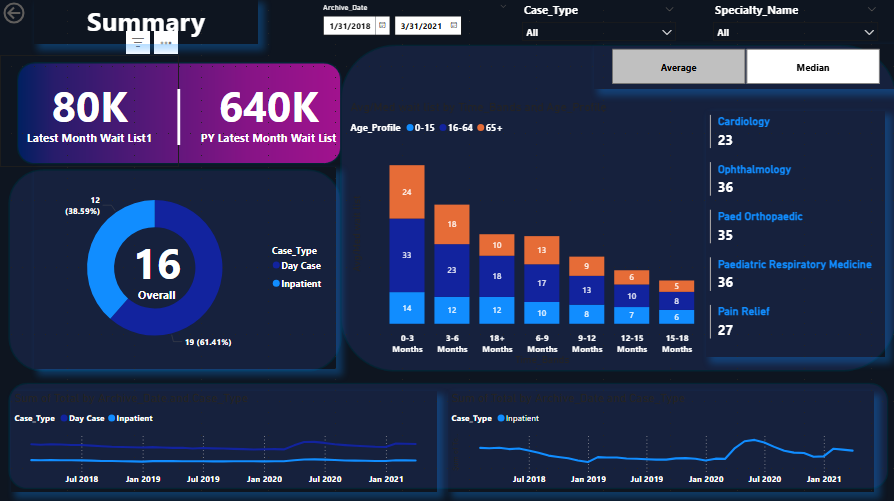

The page's visual inventory and layout, read from the dashboard file:
{"tool":"powerbi","page":{"name":"Summary","canvas":[1280,720],"ordinal":0},"visuals":[{"type":"card","fields":{"Values":["All- Data.Latest Month Wait List1"]},"box":[0,80,256,160],"z":0},{"type":"card","fields":{"Values":["All- Data.PY Latest Month wait list"]},"box":[256,80,256,160],"z":1000},{"type":"slicer","fields":{"Values":["Calculation Method.Calc Method"]},"box":[848,64,432,64],"z":2000},{"type":"donutChart","fields":{"Category":["All- Data.Case_Type"],"Y":["All- Data.Avg/Med wait list"]},"box":[48,240,432,288],"z":3000},{"type":"actionButton","box":[0,0,100,40],"z":4000},{"type":"columnChart","fields":{"Y":["All- Data.Avg/Med wait list"],"Category":["All- Data.Time_Bands"],"Series":["All- Data.Age_Profile"]},"box":[496,144,528,384],"z":5000},{"type":"multiRowCard","fields":{"Values":["All- Data.Specialty_Name","All- Data.Avg/Med wait list"]},"box":[1008,160,256,352],"z":6000},{"type":"lineChart","fields":{"Category":["All- Data.Archive_Date"],"Y":["Sum(All- Data.Total)"],"Series":["All- Data.Case_Type"]},"box":[16,560,608,144],"z":7000},{"type":"lineChart","fields":{"Category":["All- Data.Archive_Date"],"Y":["Sum(All- Data.Total)"],"Series":["All- Data.Case_Type"]},"box":[640,560,608,144],"z":8000},{"type":"slicer","fields":{"Values":["All- Data.Archive_Date"]},"box":[448,0,288,80],"z":9000},{"type":"slicer","fields":{"Values":["All- Data.Case_Type"]},"box":[736,0,240,64],"z":10000},{"type":"slicer","fields":{"Values":["All- Data.Specialty_Name"]},"box":[1008,0,256,64],"z":11000},{"type":"textbox","box":[48,0,320,64],"z":12000},{"type":"shape","box":[192,128,128,80],"z":13000},{"type":"card","fields":{"Values":["All- Data.Avg/Med wait list"]},"box":[160,320,128,128],"z":14000}]}

Visuals, with their boxes in screenshot pixels (x1, y1, x2, y2), scaled from the page's 1280x720 canvas onto the 894x501 screenshot:
card - All- Data.Latest Month Wait List1: rect(0, 56, 179, 167)
card - All- Data.PY Latest Month wait list: rect(179, 56, 358, 167)
slicer - Calculation Method.Calc Method: rect(592, 45, 893, 89)
donutChart - All- Data.Case_Type x All- Data.Avg/Med wait list: rect(34, 167, 335, 367)
actionButton: rect(0, 0, 70, 28)
columnChart - All- Data.Avg/Med wait list x All- Data.Time_Bands: rect(346, 100, 715, 367)
multiRowCard - All- Data.Specialty_Name x All- Data.Avg/Med wait list: rect(704, 111, 883, 356)
lineChart - All- Data.Archive_Date x Sum(All- Data.Total): rect(11, 390, 436, 490)
lineChart - All- Data.Archive_Date x Sum(All- Data.Total): rect(447, 390, 872, 490)
slicer - All- Data.Archive_Date: rect(313, 0, 514, 56)
slicer - All- Data.Case_Type: rect(514, 0, 682, 45)
slicer - All- Data.Specialty_Name: rect(704, 0, 883, 45)
textbox: rect(34, 0, 257, 45)
shape: rect(134, 89, 224, 145)
card - All- Data.Avg/Med wait list: rect(112, 223, 201, 312)
